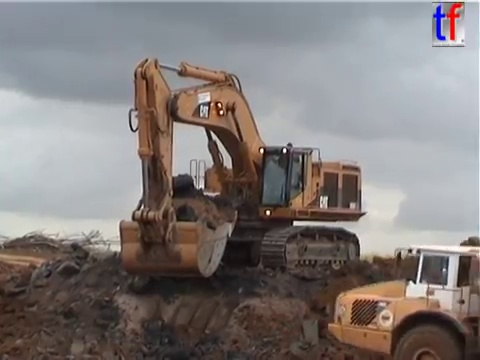excavator: (117, 54, 369, 283)
truck: (324, 243, 480, 360)
